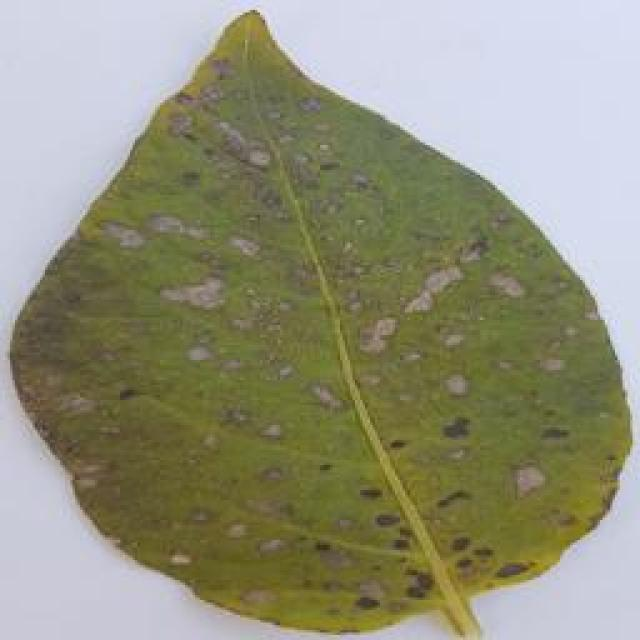Potato_Early_Blight: (11, 9, 634, 618)
